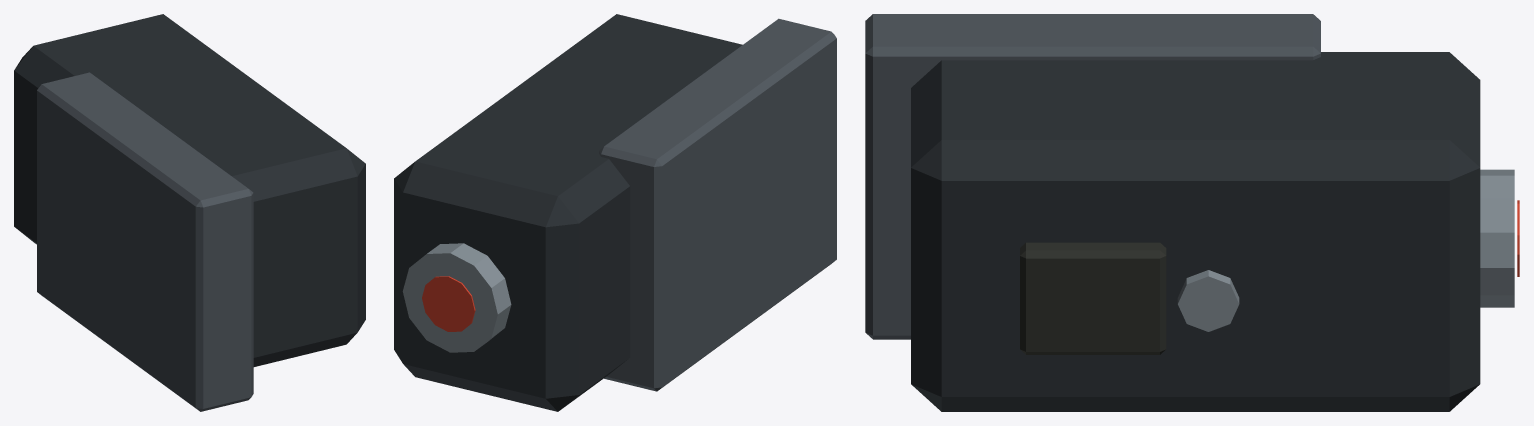
Rendered from att_laser_rail_red.glb.
The picture shows the model from 3 angles, left to right: view 1: azimuth 30°, elevation 25°; view 2: azimuth 150°, elevation 25°; view 3: azimuth 270°, elevation 25°; orthographic projection. The views are drawn at different scales.
Visible parts, largest first — view 1: Geometry_att_laser_rail_red; view 2: Geometry_att_laser_rail_red; view 3: Geometry_att_laser_rail_red.
Boxes of the visible parts, box(x1,y1,x2,y2) form: Geometry_att_laser_rail_red: box(14, 14, 365, 411); Geometry_att_laser_rail_red: box(394, 14, 836, 411); Geometry_att_laser_rail_red: box(865, 14, 1519, 411).
Size of the model in its own units: 0.0455 by 0.042 by 0.085.
